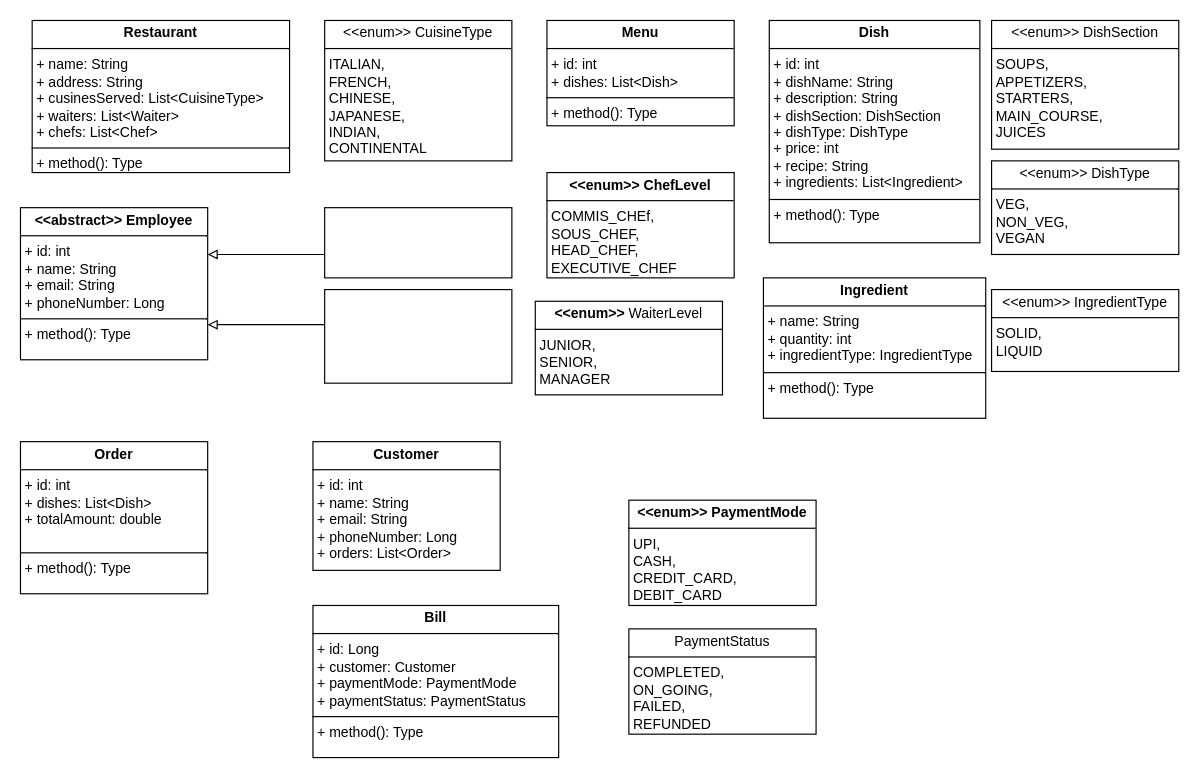
The diagram is 1199 pixels wide and 778 high, and some of its shapes have lost their labels. The centre of each missing label's shape, as x and y in pixels:
Chef + cheflevel: chefLevel: the point at 418,242
Waiter + waiterLevel: WaiterLevel + method(): Type: the point at 418,335
